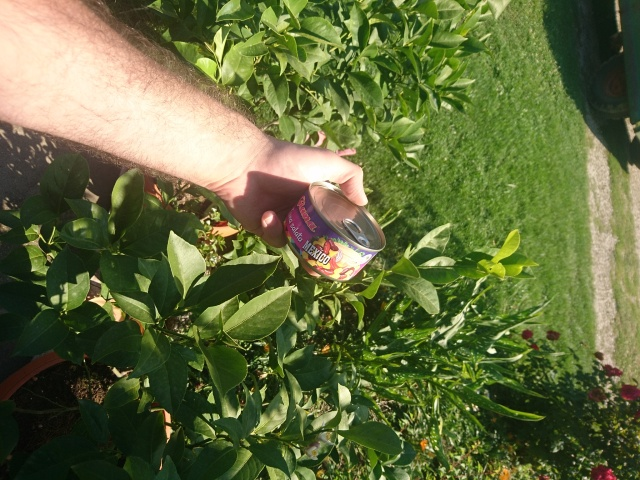Giana Tuna Salad Mexico 185g: (280, 179, 388, 284)
